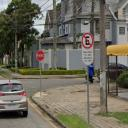NoEstacionar: (82, 32, 94, 50), (4, 54, 7, 58)
Pare: (36, 50, 44, 61)
